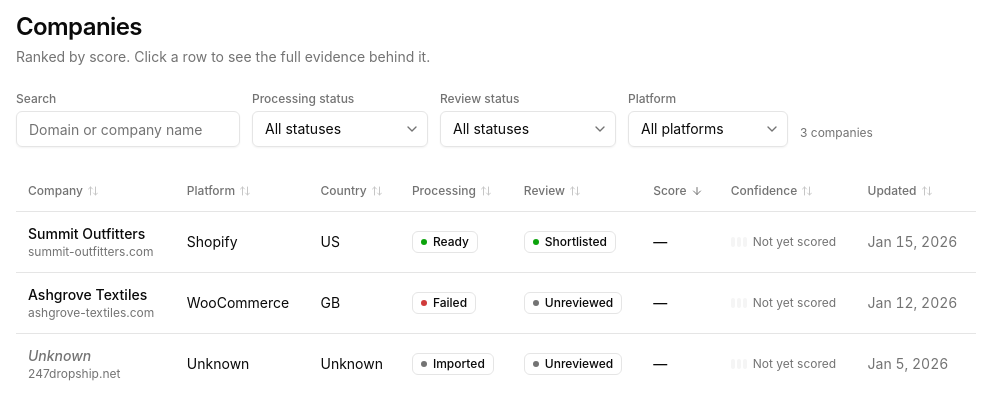
Test: CompaniesPage › shows an empty state when no company matches the filters
expect the text "Summit Outfitters" is shown: met, box [28, 224, 163, 244]
Select "customer" in the dropdown labelled "Review status". click: (528, 129)
box: [440, 111, 616, 147]
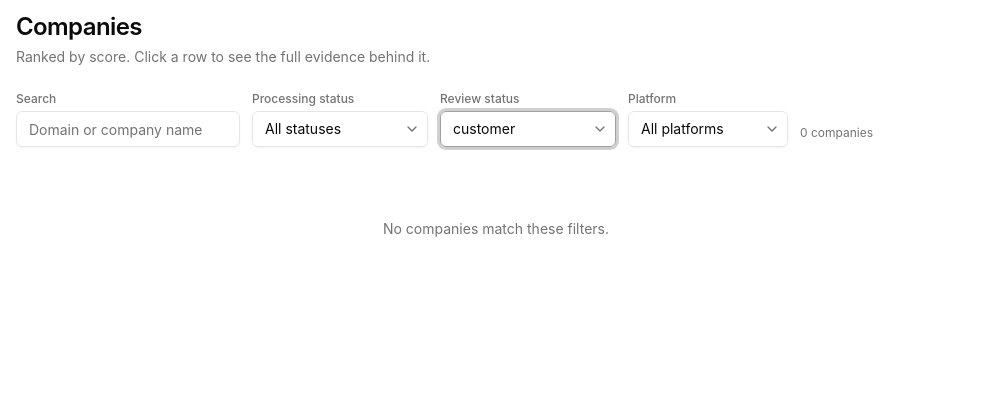
expect the text "No companies match these filters." is shown: met, box [383, 220, 609, 237]
